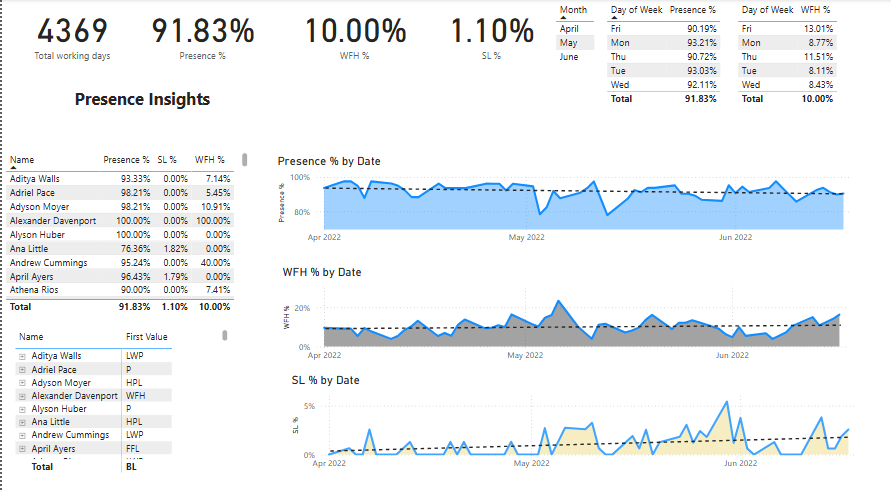

What the dashboard file says about the page in this screenshot:
{"tool":"powerbi","page":{"name":"Page 1","canvas":[1280,720],"ordinal":0},"visuals":[{"type":"card","fields":{"Values":["Measure Table.Total working days"]},"box":[0,0,203.3,95.7],"z":0},{"type":"areaChart","fields":{"Category":["Final Data.Date"],"Y":["Measure Table.Presence %"]},"box":[391.7,222.9,849,137.7],"z":1000},{"type":"card","fields":{"Values":["Measure Table.Presence %"]},"box":[179.7,0,218.4,95.7],"z":2000},{"type":"tableEx","fields":{"Values":["Final Data.Month.Variation.Date Hierarchy.Month"]},"box":[791.6,0,73.8,154.1],"z":3000},{"type":"card","fields":{"Values":["Measure Table.WFH %"]},"box":[384.7,0,246.9,95.7],"z":4000},{"type":"card","fields":{"Values":["Measure Table.SL %"]},"box":[616.2,0,177,95.1],"z":5000},{"type":"tableEx","fields":{"Values":["Final Data.Name","Measure Table.Presence %","Measure Table.SL %","Measure Table.WFH %"]},"box":[0,216.3,358.9,240.9],"z":6000},{"type":"textbox","box":[0,553,359,167],"z":7000},{"type":"pivotTable","fields":{"Rows":["Final Data.Name","Final Data.Month.Variation.Date Hierarchy.Year","Final Data.Month.Variation.Date Hierarchy.Quarter","Final Data.Month.Variation.Date Hierarchy.Month","Final Data.Month.Variation.Date Hierarchy.Day","Final Data.Date.Variation.Date Hierarchy.Year","Final Data.Date.Variation.Date Hierarchy.Quarter","Final Data.Date.Variation.Date Hierarchy.Month","Final Data.Date.Variation.Date Hierarchy.Day"],"Values":["Min(Final Data.Value)"]},"box":[14.8,470.4,316.3,216.3],"z":8000},{"type":"areaChart","fields":{"Category":["Final Data.Date"],"Y":["Measure Table.WFH %"]},"box":[398.3,383.5,835.9,147.5],"z":9000},{"type":"areaChart","fields":{"Category":["Final Data.Date"],"Y":["Measure Table.SL %"]},"box":[411.4,539.2,835.9,147.5],"z":10000},{"type":"tableEx","fields":{"Values":["Final Data.Day of Week","Measure Table.Presence %"]},"box":[865.4,0,188.5,180.3],"z":11000},{"type":"tableEx","fields":{"Values":["Final Data.Day of Week","Measure Table.WFH %"]},"box":[1053.8,0,186.8,180.3],"z":12000},{"type":"textbox","box":[100,121.3,299.9,73.8],"z":12001}]}

Visuals, with their boxes in screenshot pixels (x1, y1, x2, y2), scaled from the page's 1280x720 canvas onto the 891x492 screenshot:
card - Measure Table.Total working days: locate(0, 0, 142, 65)
areaChart - Final Data.Date x Measure Table.Presence %: locate(273, 152, 864, 246)
card - Measure Table.Presence %: locate(125, 0, 277, 65)
tableEx - Final Data.Month.Variation.Date Hierarchy.Month: locate(551, 0, 602, 105)
card - Measure Table.WFH %: locate(268, 0, 440, 65)
card - Measure Table.SL %: locate(429, 0, 552, 65)
tableEx - Final Data.Name x Measure Table.Presence %: locate(0, 148, 250, 312)
textbox: locate(0, 378, 250, 491)
pivotTable - Final Data.Name x Final Data.Month.Variation.Date Hierarchy.Year: locate(10, 321, 230, 469)
areaChart - Final Data.Date x Measure Table.WFH %: locate(277, 262, 859, 363)
areaChart - Final Data.Date x Measure Table.SL %: locate(286, 368, 868, 469)
tableEx - Final Data.Day of Week x Measure Table.Presence %: locate(602, 0, 734, 123)
tableEx - Final Data.Day of Week x Measure Table.WFH %: locate(734, 0, 864, 123)
textbox: locate(70, 83, 278, 133)
